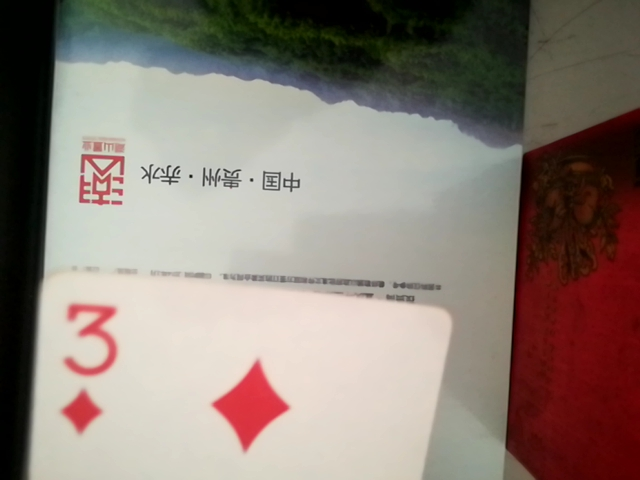fk 3: (8, 262, 476, 478)
